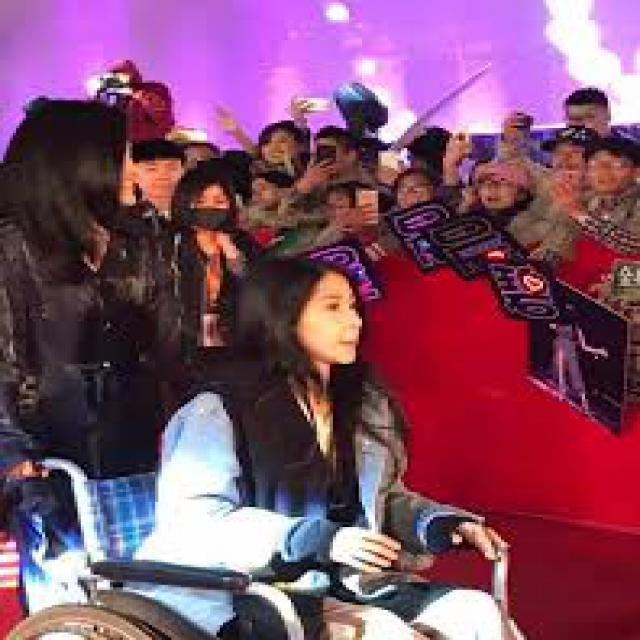wheelchairs: (9, 439, 524, 638)
